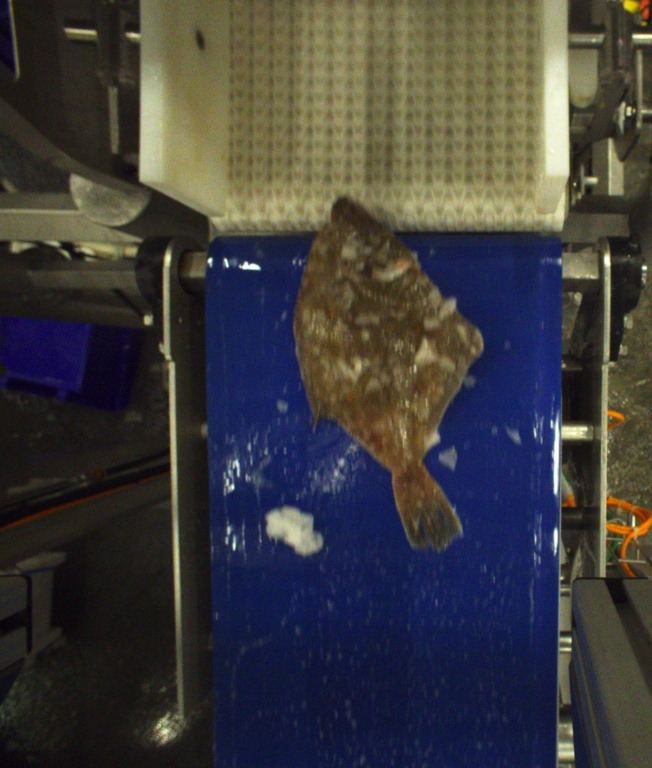PLE: (294, 194, 486, 550)
